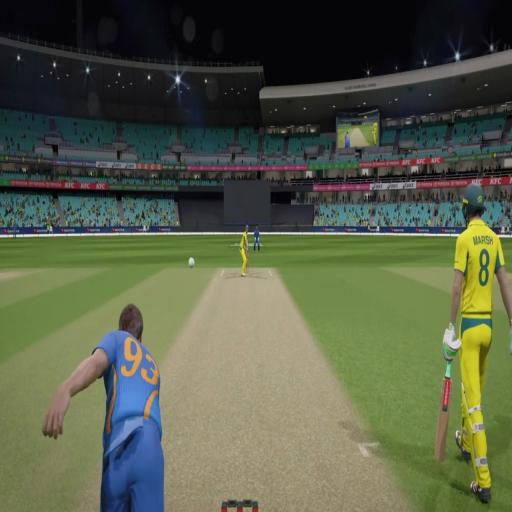ball: (186, 251, 196, 273)
